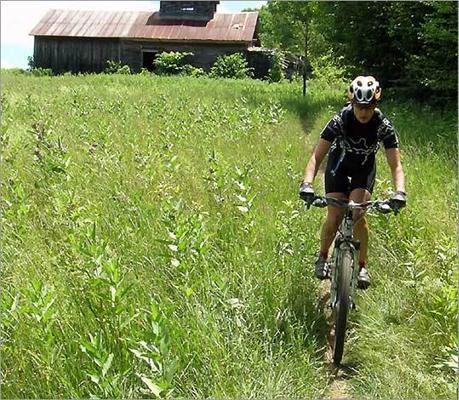person: (301, 75, 407, 289)
